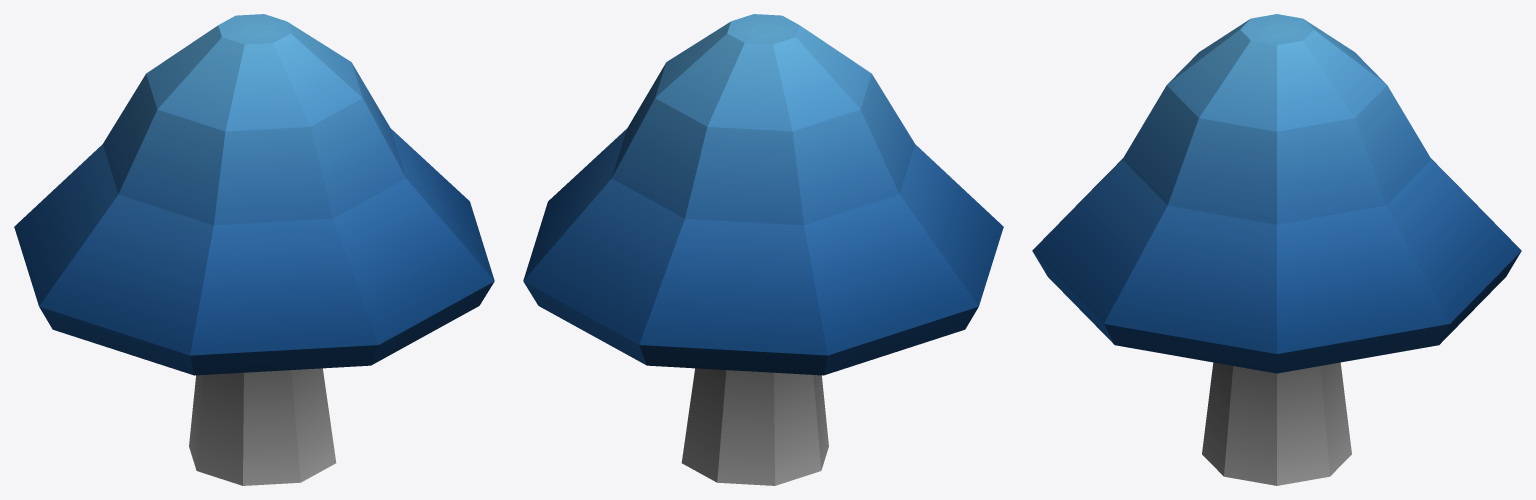
Rendered from MushroomExtraMediumBlue.FBX.
3 views of the same model, side by side, from view 1: azimuth 30°, elevation 25°; view 2: azimuth 150°, elevation 25°; view 3: azimuth 270°, elevation 25° (orthographic).
Visible parts, largest first — view 1: Cylinder055; view 2: Cylinder055; view 3: Cylinder055.
Boxes of the visible parts, <box> form: Cylinder055: <box>14,14,494,485</box>; Cylinder055: <box>523,14,1003,485</box>; Cylinder055: <box>1032,14,1521,485</box>.
Bounding box in the file's own units: 39.22 × 37.26 × 39.22.
